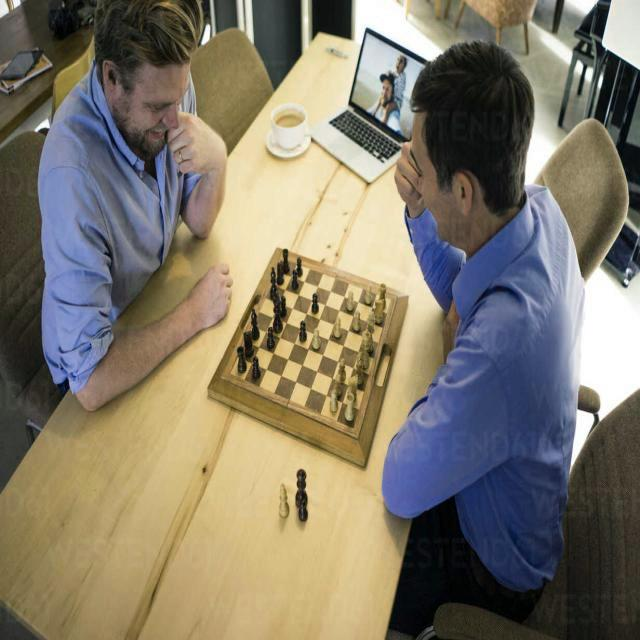chess-table-corners: (226, 364, 237, 380), (349, 421, 360, 434), (386, 294, 396, 306)
